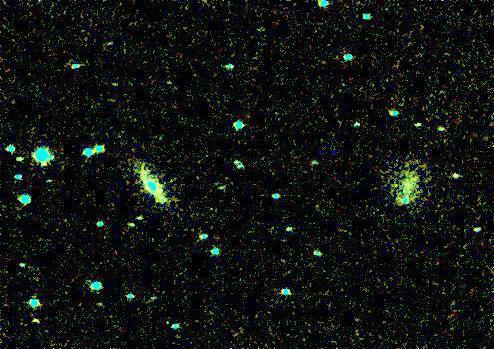star: (149, 186, 179, 216)
